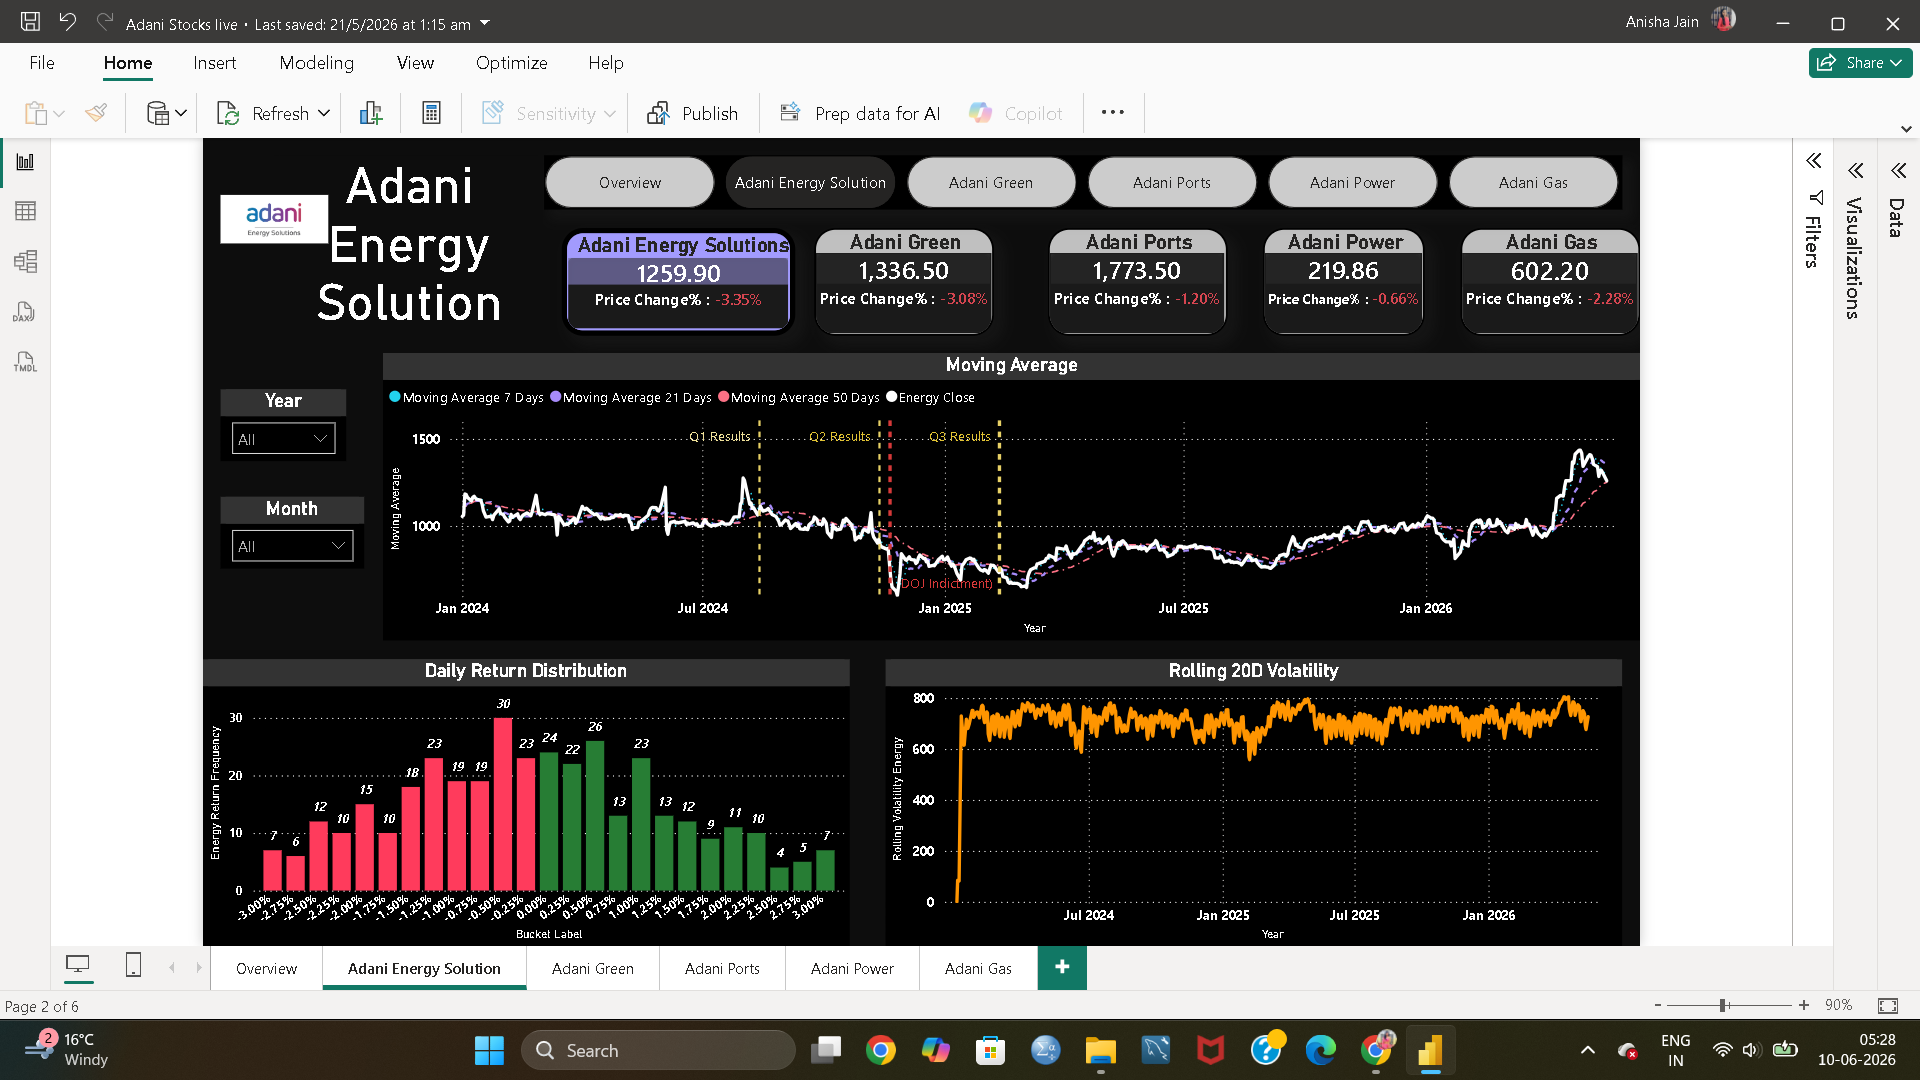

Layout of this report page (visuals, bound fields, positions):
{"tool":"powerbi","page":{"name":"Adani Energy Solution","canvas":[1280,720],"ordinal":1},"visuals":[{"type":"cardVisual","title":"Adani Energy Solutions","fields":{"Data":["DAX Table.Current Price AENT"]},"box":[320,80,208,96],"z":0},{"type":"cardVisual","title":"Adani Power","fields":{"Data":["DAX Table.Current Price APOWER"]},"box":[944,80,144,96],"z":1000},{"type":"cardVisual","title":"Adani Ports ","fields":{"Data":["DAX Table.Current Price APorts"]},"box":[752,80,160,96],"z":2000},{"type":"cardVisual","title":"Adani Gas ","fields":{"Data":["DAX Table.Current Price ATotalGas"]},"box":[1120,80,160,96],"z":3000},{"type":"cardVisual","title":"Adani Green","fields":{"Data":["DAX Table.Current Price AGreen"]},"box":[544,80,160,96],"z":4000},{"type":"slicer","title":"Year","fields":{"Values":["Date Table.Year"]},"box":[16,224,112,64],"z":5000},{"type":"slicer","title":"Month","fields":{"Values":["Energy Solutions.Date.Variation.Date Hierarchy.Month"]},"box":[16,320,128,64],"z":6000},{"type":"lineChart","title":"Moving Average","fields":{"Y":["MA.MA7 Energy","MA.MA21 Energy","MA.MA50 Energy","Sum(Energy Solutions.Energy Close)"],"Category":["Energy Solutions.Date.Variation.Date Hierarchy.Year","Energy Solutions.Date.Variation.Date Hierarchy.Quarter","Energy Solutions.Date.Variation.Date Hierarchy.Month","Energy Solutions.Date.Variation.Date Hierarchy.Day"]},"box":[160,192,1120,256],"z":7000},{"type":"columnChart","title":"Daily Return Distribution","fields":{"Category":["Green Return Buckets.Bucket Label"],"Y":["DAX Table.Energy Return Frequency"]},"box":[0,464,576,256],"z":8000},{"type":"lineChart","title":" Rolling 20D Volatility","fields":{"Category":["Energy Solutions.Date.Variation.Date Hierarchy.Year","Energy Solutions.Date.Variation.Date Hierarchy.Quarter","Energy Solutions.Date.Variation.Date Hierarchy.Month","Energy Solutions.Date.Variation.Date Hierarchy.Day"],"Y":["DAX Table.Rolling Volatility Energy"]},"box":[608,464,656,256],"z":9000},{"type":"pageNavigator","box":[304,16,960,48],"z":10000},{"type":"textbox","title":"Adani Energy Solution","box":[64,16,240,160],"z":11000},{"type":"image","box":[16,32,96,80],"z":12000}]}

Visuals, with their boxes on the page's 1280x720 design canvas (x1, y1, x2, y2). These are canvas units, not pixel positions in the 1920x1080 screenshot, which may show the page scaled, cropped or inside an application window:
"Adani Energy Solutions" cardVisual: <region>320, 80, 528, 176</region>
"Adani Power" cardVisual: <region>944, 80, 1088, 176</region>
"Adani Ports " cardVisual: <region>752, 80, 912, 176</region>
"Adani Gas " cardVisual: <region>1120, 80, 1280, 176</region>
"Adani Green" cardVisual: <region>544, 80, 704, 176</region>
"Year" slicer: <region>16, 224, 128, 288</region>
"Month" slicer: <region>16, 320, 144, 384</region>
"Moving Average" lineChart: <region>160, 192, 1280, 448</region>
"Daily Return Distribution" columnChart: <region>0, 464, 576, 720</region>
" Rolling 20D Volatility" lineChart: <region>608, 464, 1264, 720</region>
pageNavigator: <region>304, 16, 1264, 64</region>
"Adani Energy Solution" textbox: <region>64, 16, 304, 176</region>
image: <region>16, 32, 112, 112</region>
